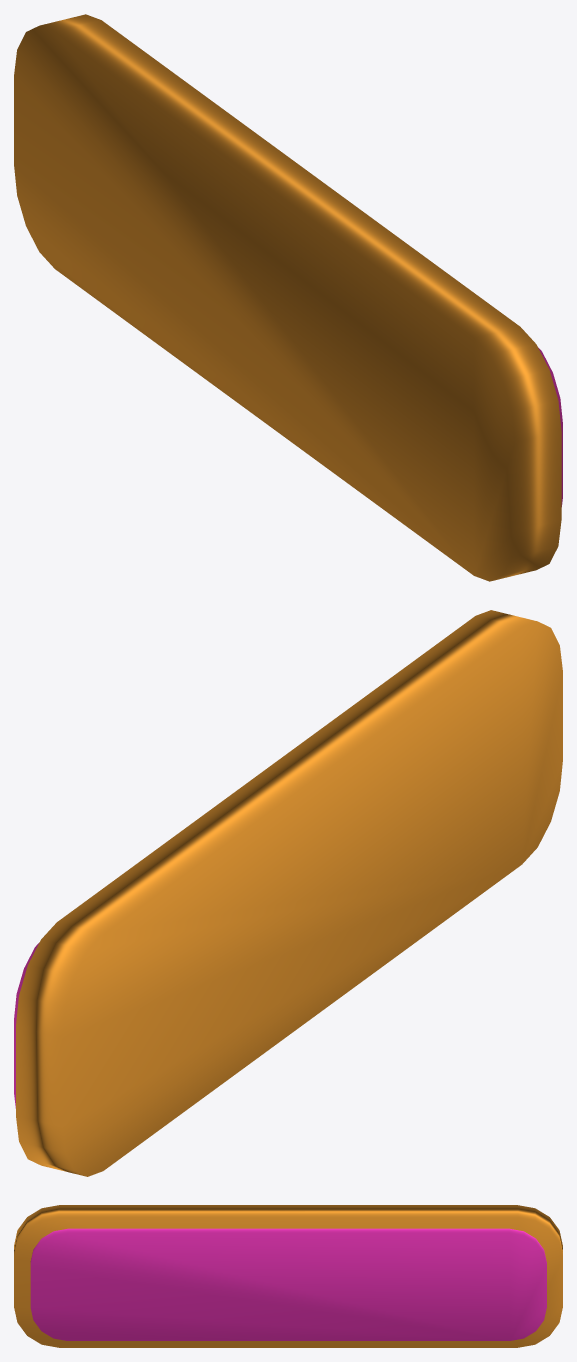
The model's file is TextPlate.fbx.
3 renders of one model, top to bottom at view 1: azimuth 30°, elevation 25°; view 2: azimuth 150°, elevation 25°; view 3: azimuth 270°, elevation 25°, orthographic. The views are drawn at different scales.
Visible parts, largest first — view 1: Cube.001; view 2: Cube.001; view 3: Cube.003, Cube.001.
Boxes of the visible parts, box(x1,y1,x2,y2) form: Cube.001: box(14, 14, 561, 581); Cube.001: box(16, 610, 562, 1176); Cube.003: box(30, 1228, 546, 1340); Cube.001: box(14, 1205, 562, 1347).
Bounding box in the file's own units: 55.58 × 200 × 764.
